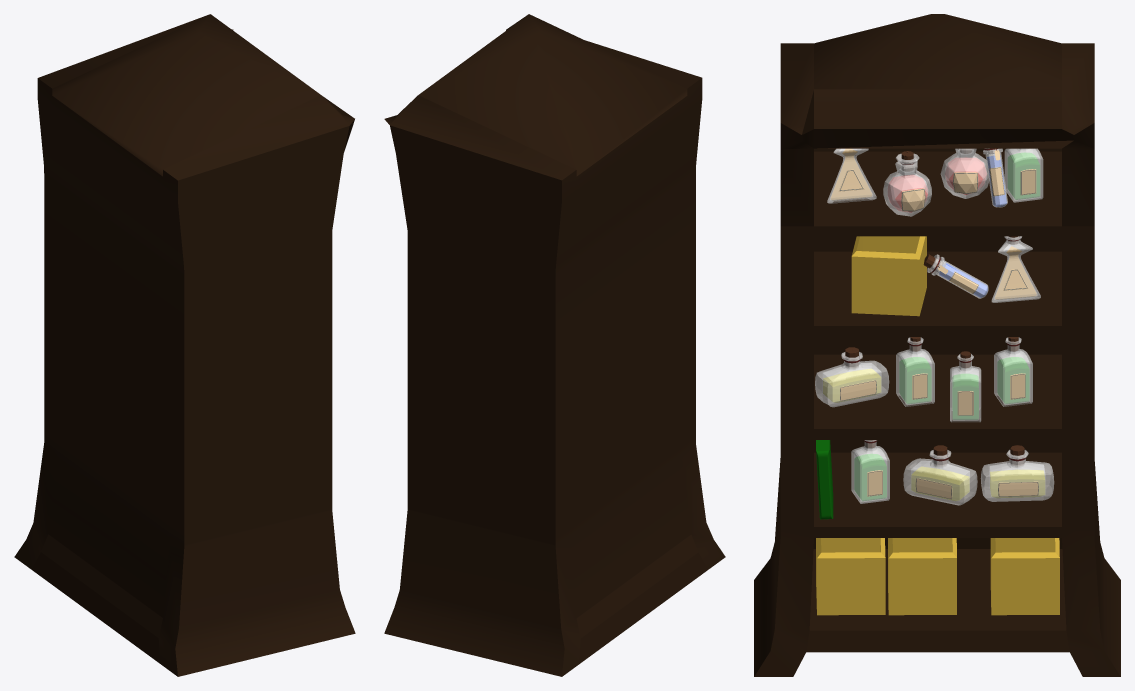
File: шкаф 2.fbx
3 views of the same model, side by side, from view 1: azimuth 30°, elevation 25°; view 2: azimuth 150°, elevation 25°; view 3: azimuth 270°, elevation 25° (orthographic). The views are drawn at different scales.
Visible parts, largest first — view 1: Cube; view 2: Cube; view 3: Cube, Куб, Куб.001, Куб.003, Куб.002, жидкость.002, жидкость.003, жидкость.001, жижа.008, жижа.003, нитка.001, жижа.002 (+8 smaller).
Part boxes in pixels (x1=…): Cube: x1=14, y1=14, x2=355, y2=676; Cube: x1=384, y1=14, x2=725, y2=676; Cube: x1=754, y1=14, x2=1120, y2=676; Куб: x1=851, y1=236, x2=926, y2=316; Куб.001: x1=816, y1=538, x2=885, y2=615; Куб.003: x1=990, y1=538, x2=1059, y2=615; Куб.002: x1=888, y1=538, x2=956, y2=615; жидкость.002: x1=980, y1=445, x2=1054, y2=501; жидкость.003: x1=903, y1=445, x2=977, y2=505; жидкость.001: x1=815, y1=347, x2=889, y2=407; жижа.008: x1=994, y1=337, x2=1032, y2=406; жижа.003: x1=896, y1=337, x2=934, y2=406; нитка.001: x1=883, y1=151, x2=931, y2=216; жижа.002: x1=851, y1=440, x2=889, y2=503.
Size of the model in its own units: 269 by 721 by 384.
